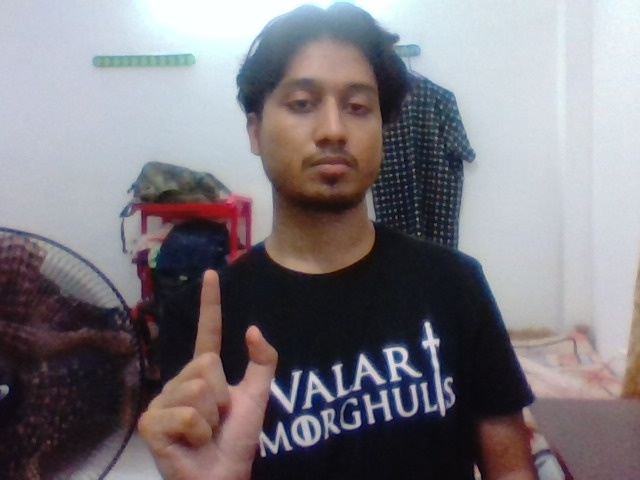J: (139, 256, 283, 453)
